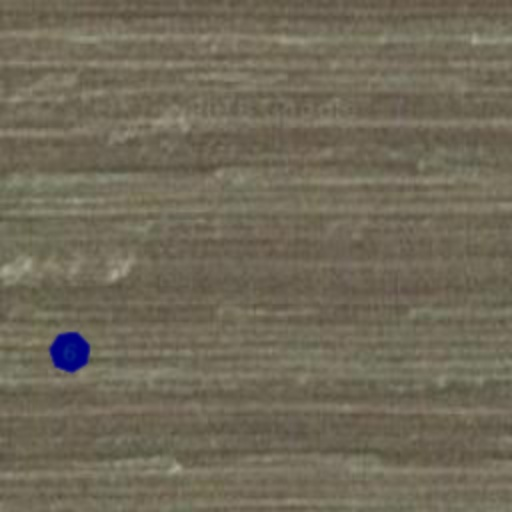heptagon: (44, 326, 96, 378)
